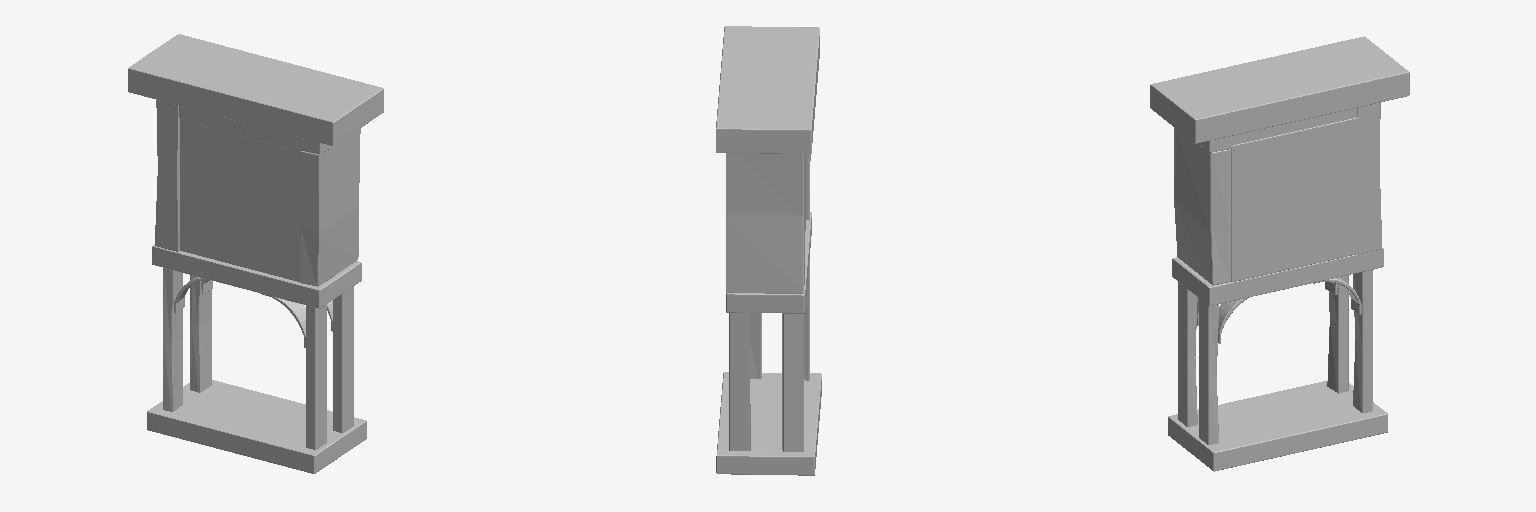
File: SetA_Cabinet_Style_01.obj
3 renders of one model, left to right at view 1: azimuth 30°, elevation 25°; view 2: azimuth 150°, elevation 25°; view 3: azimuth 270°, elevation 25°, orthographic.
Parts seen in each view (by area): view 1: SetA_Cabinet_Style_01; view 2: SetA_Cabinet_Style_01; view 3: SetA_Cabinet_Style_01.
Boxes of the visible parts, box(x1,y1,x2,y2) form: SetA_Cabinet_Style_01: box(128, 34, 383, 473); SetA_Cabinet_Style_01: box(716, 26, 821, 475); SetA_Cabinet_Style_01: box(1150, 36, 1409, 471).
Size of the model in its own units: 0.6072 by 1.2 by 0.7941.